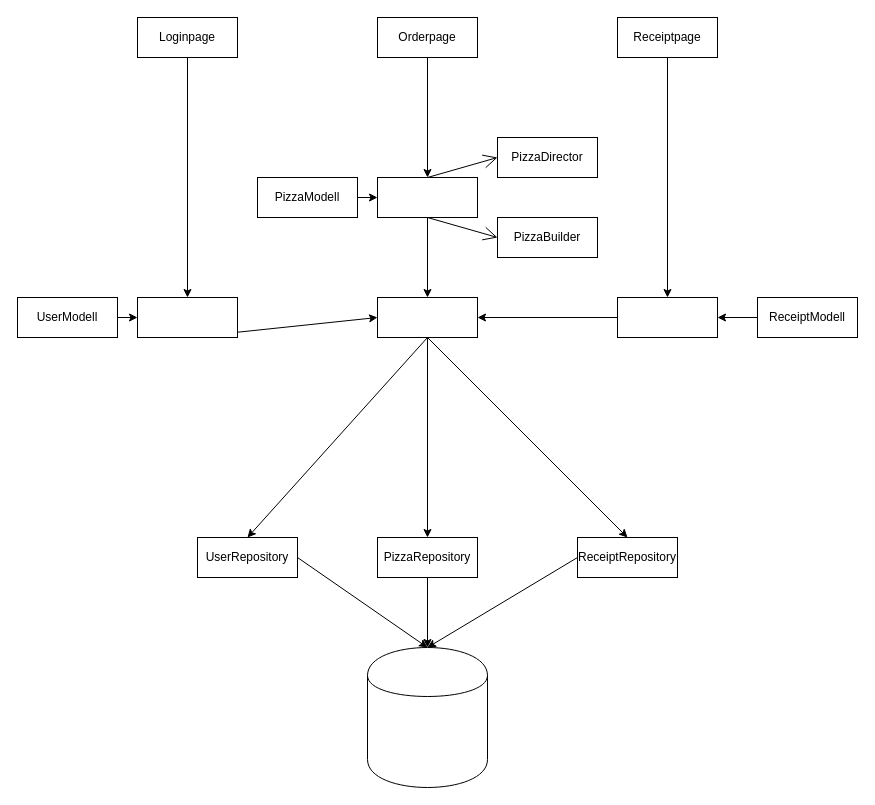
The diagram is 875 pixels wide and 805 high, and some of its shapes have lost their labels. The shapes that lost their labels are listed below. From the top down, each one's centre as x and y in pixels, then its label:
point 427,197: OrderController
point 187,317: Login-Controller
point 427,317: QueryBuilder
point 667,317: ReceiptController
point 427,717: Databse
